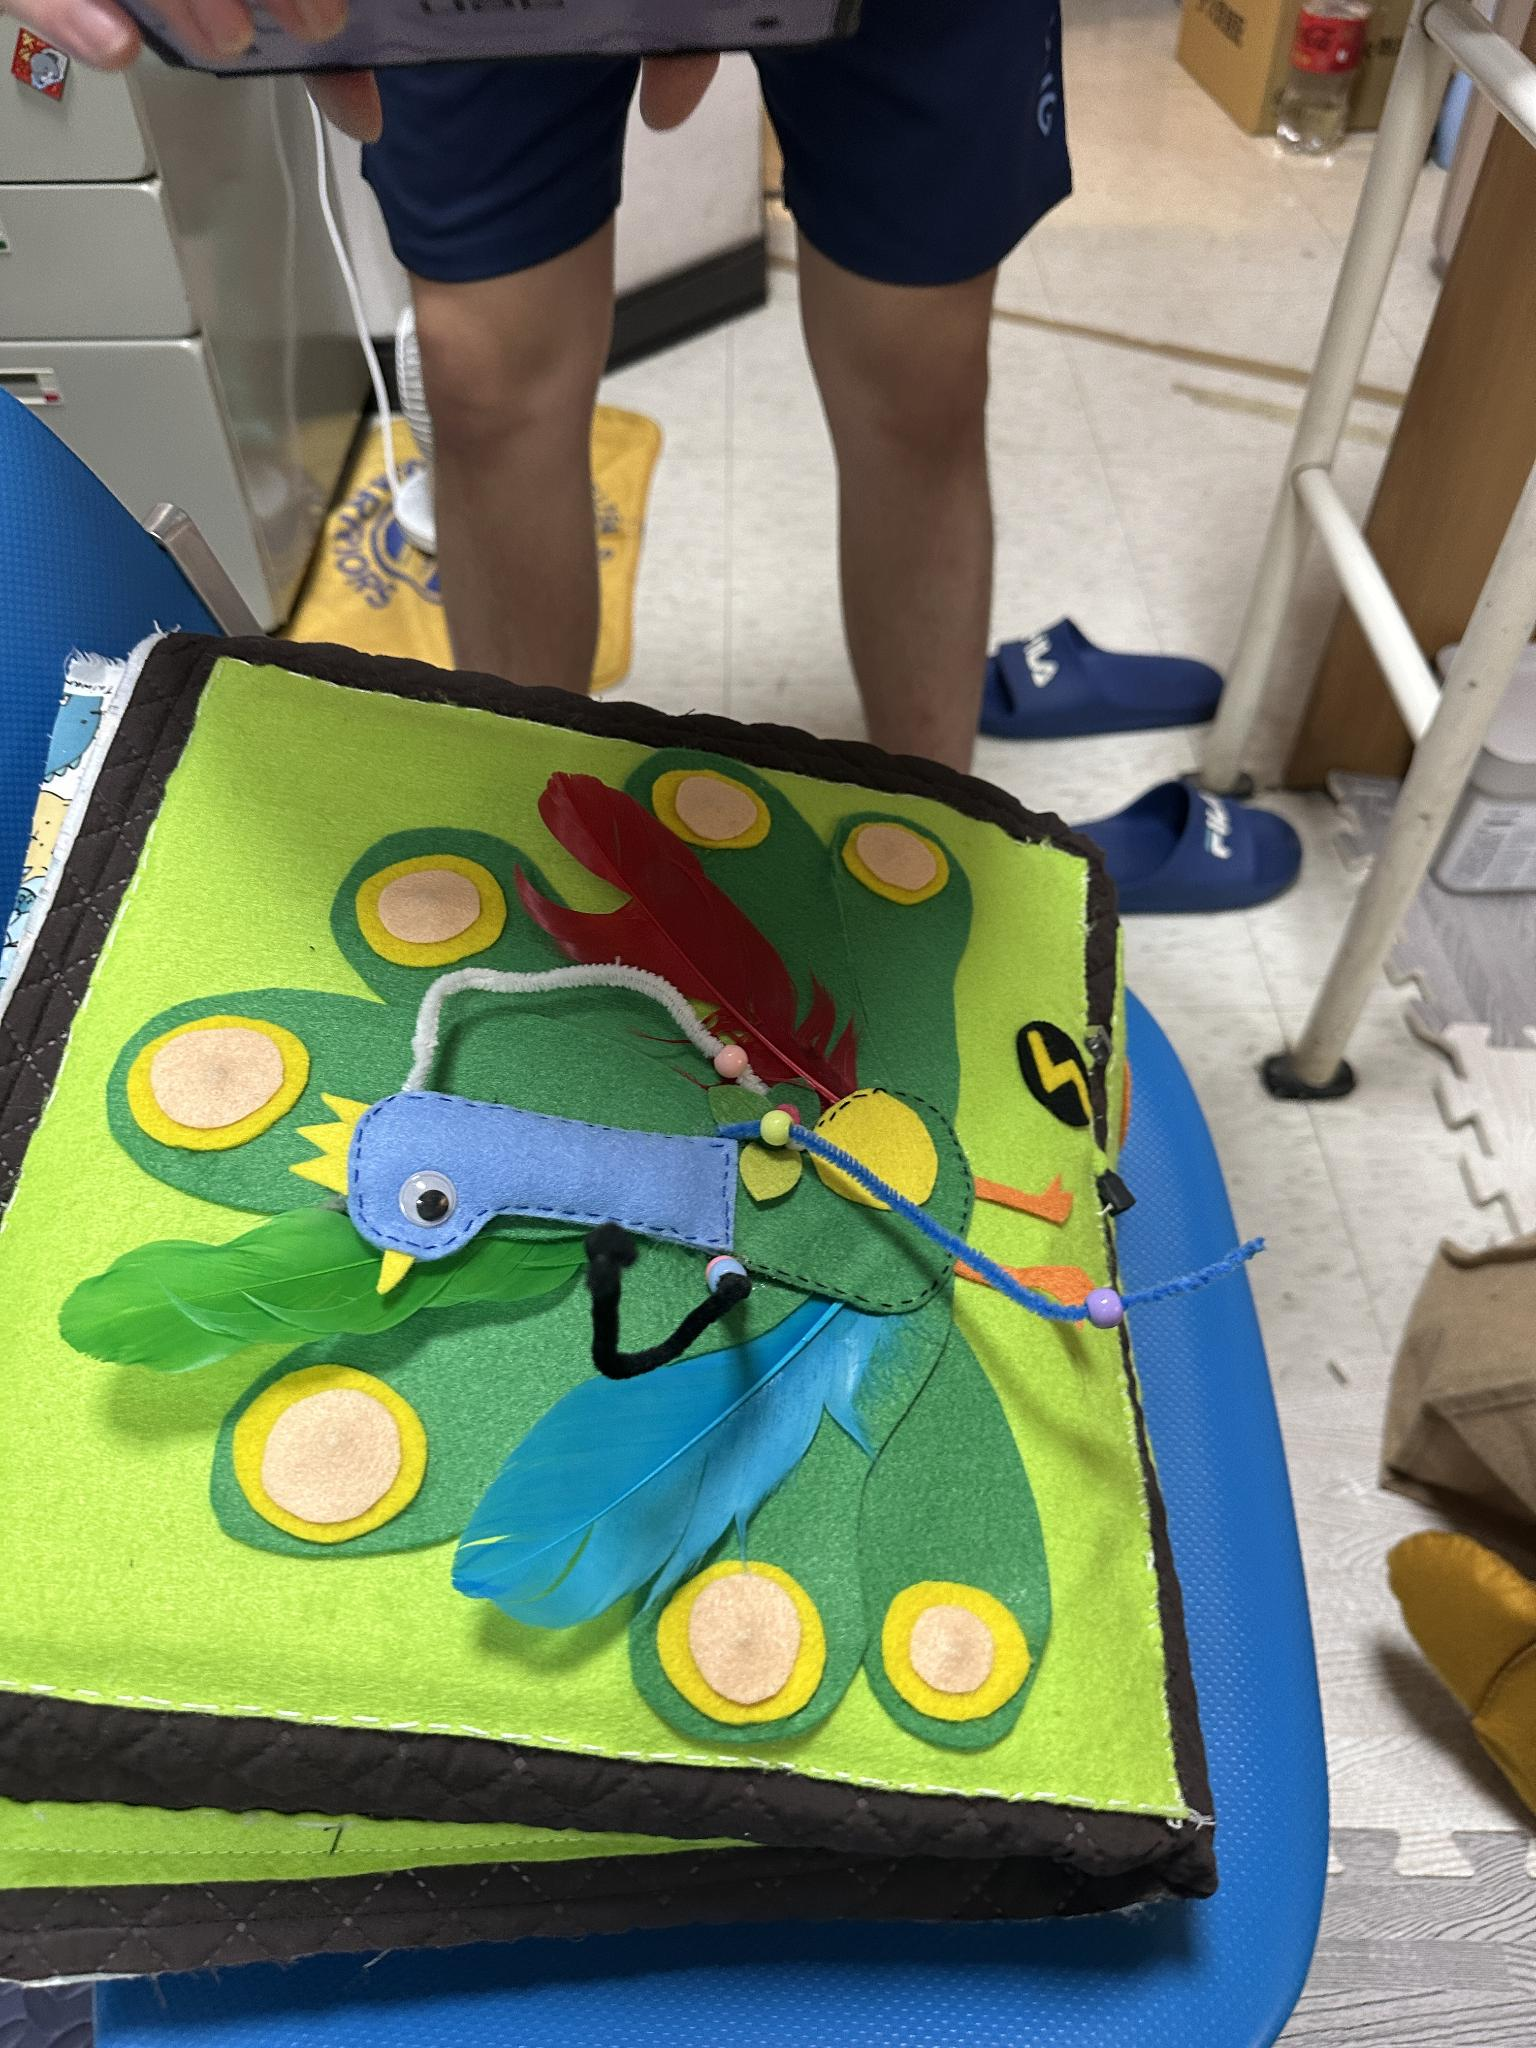bead: (755, 1105, 813, 1163), (712, 1029, 758, 1089), (1076, 1271, 1121, 1330), (710, 1261, 752, 1297), (700, 1243, 736, 1269)
